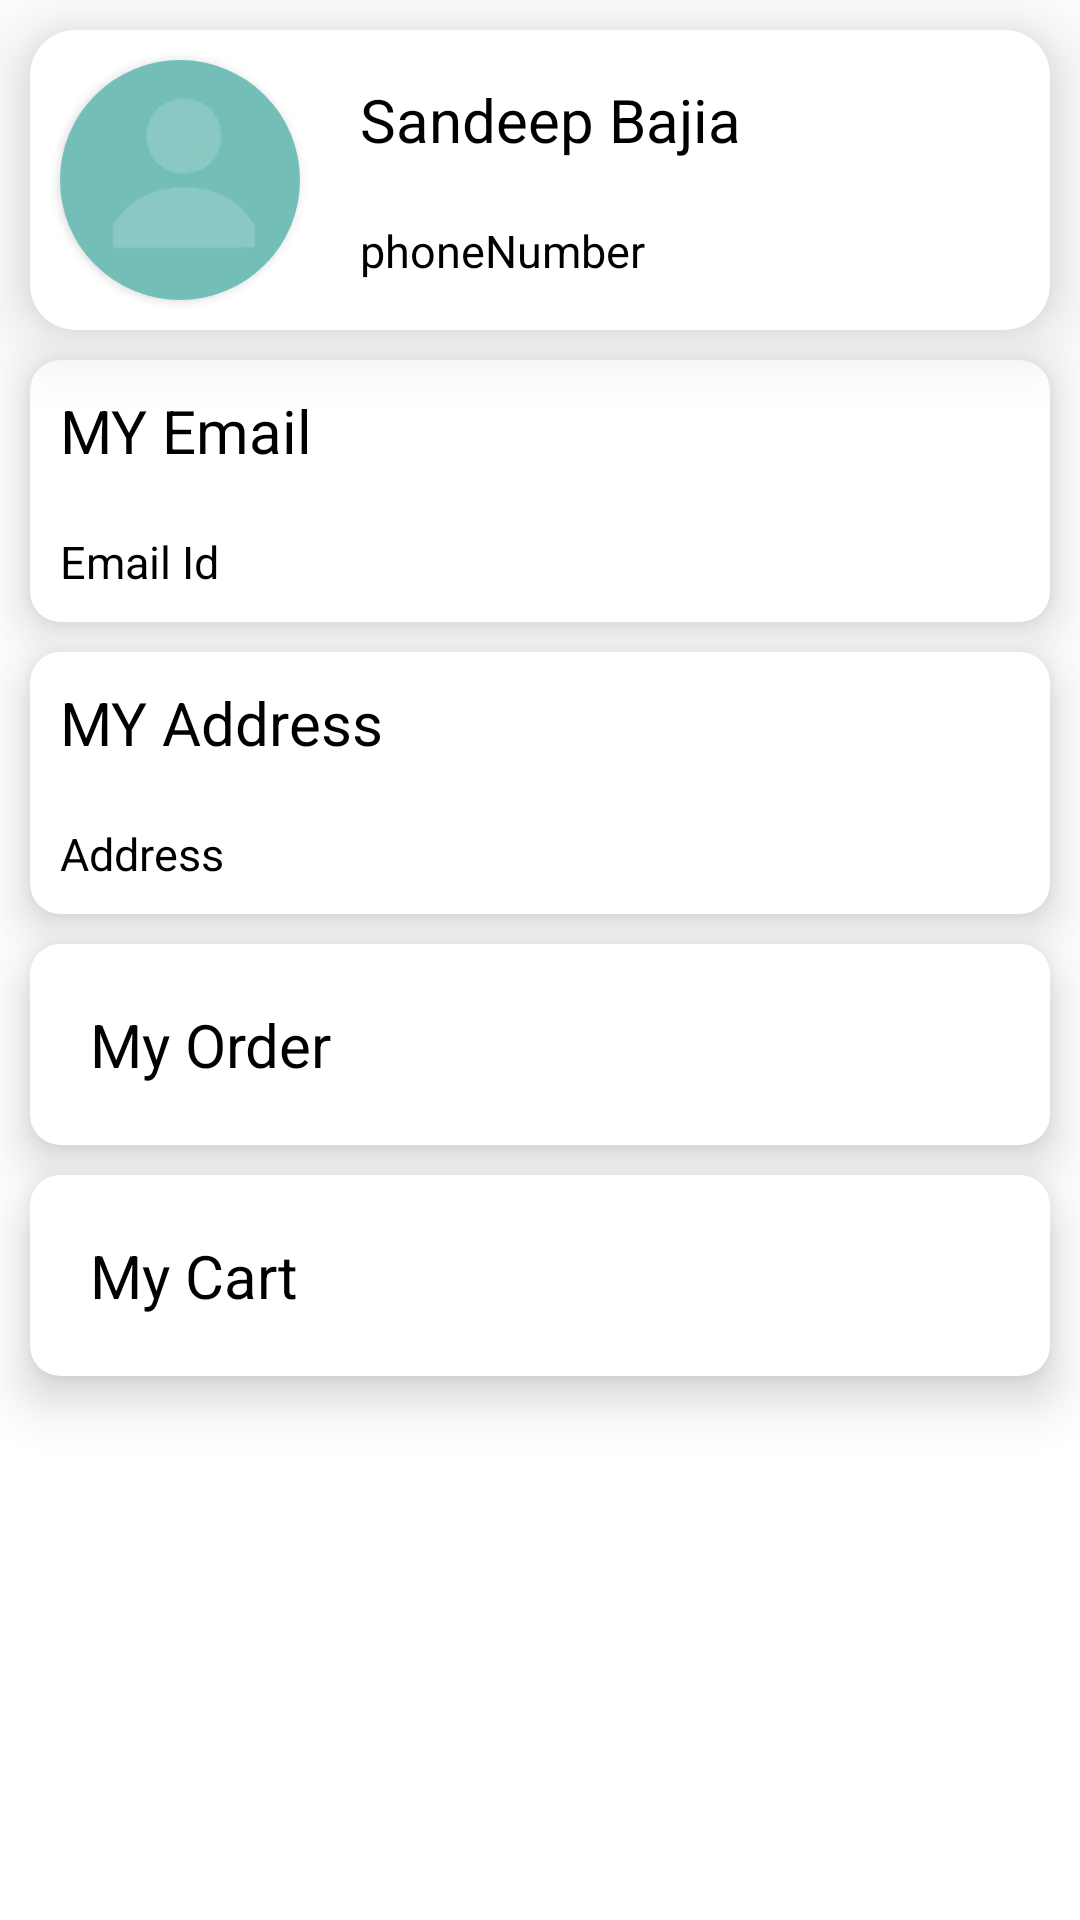

Where to tap for icons on this 1080px x 1920px app screen, as (x=x, y=y):
user: (x=180, y=180)
